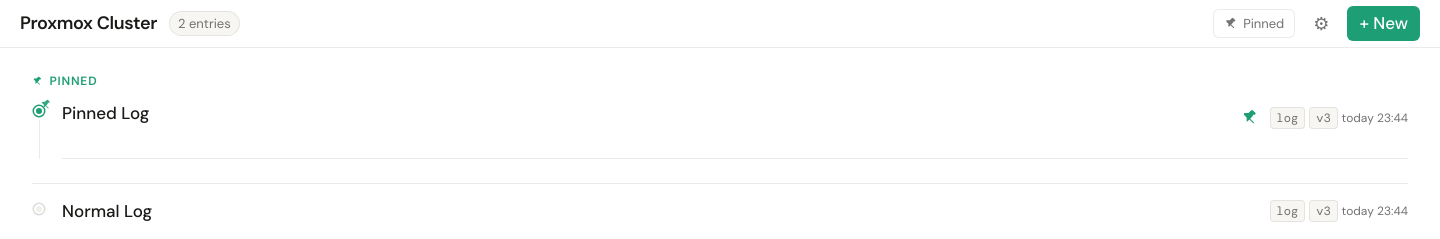
Test case: KaseViewPage — pin filter toggle › when active: shows only pinned logs; hides unpinned logs
Expected: the text "Pinned Log" is shown, x1=62 y1=102 x2=150 y2=124
Expected: the text "Normal Log" is shown, x1=62 y1=200 x2=152 y2=222
Click the button with test id "pin-filter-toggle" at (1254, 24), box x1=1213 y1=9 x2=1295 y2=38
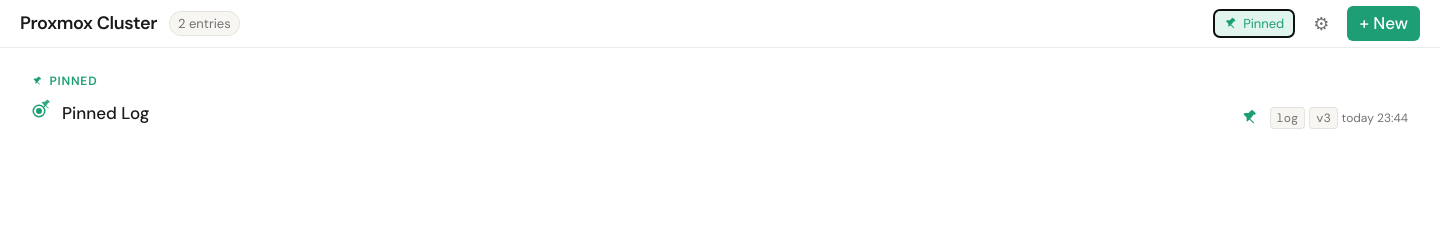
Expected: the text "Pinned Log" is shown, x1=62 y1=102 x2=150 y2=124
Now the text "Normal Log" is gone
